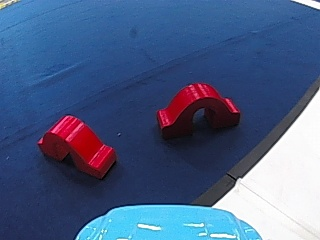bridge: (38, 112, 120, 179), (157, 80, 241, 135)
